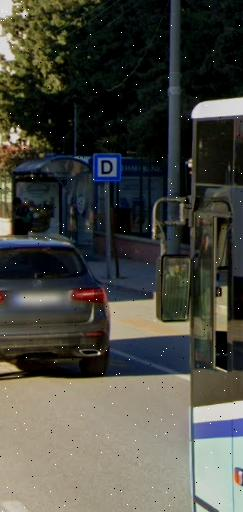station: (90, 151, 126, 185)
